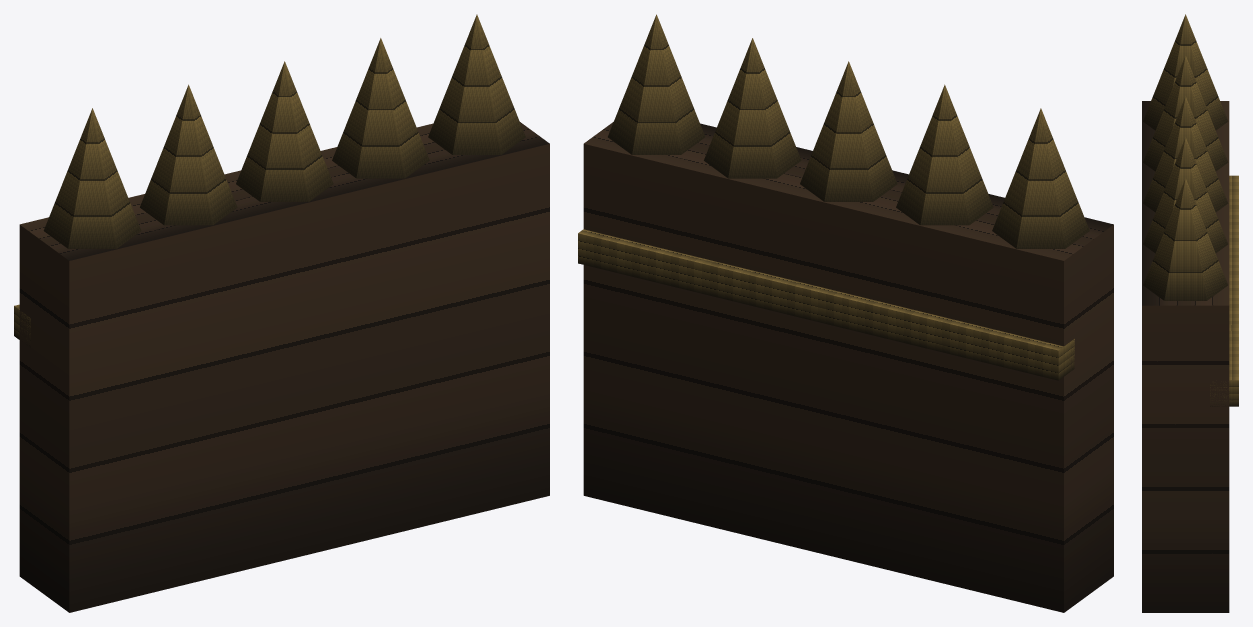
Rendered from palisade.gltf.
3 renders of one model, left to right at view 1: azimuth 30°, elevation 25°; view 2: azimuth 150°, elevation 25°; view 3: azimuth 270°, elevation 25°, orthographic. The views are drawn at different scales.
Parts seen in each view (by area): view 1: palisade; view 2: palisade; view 3: palisade.
Boxes of the visible parts, x1,y1,x2,y2 form: palisade: [14, 14, 549, 612]; palisade: [578, 14, 1113, 612]; palisade: [1142, 14, 1238, 612].
Bounding box in the file's own units: 1 × 0.945 × 0.2.
1 material, 1 textured.
